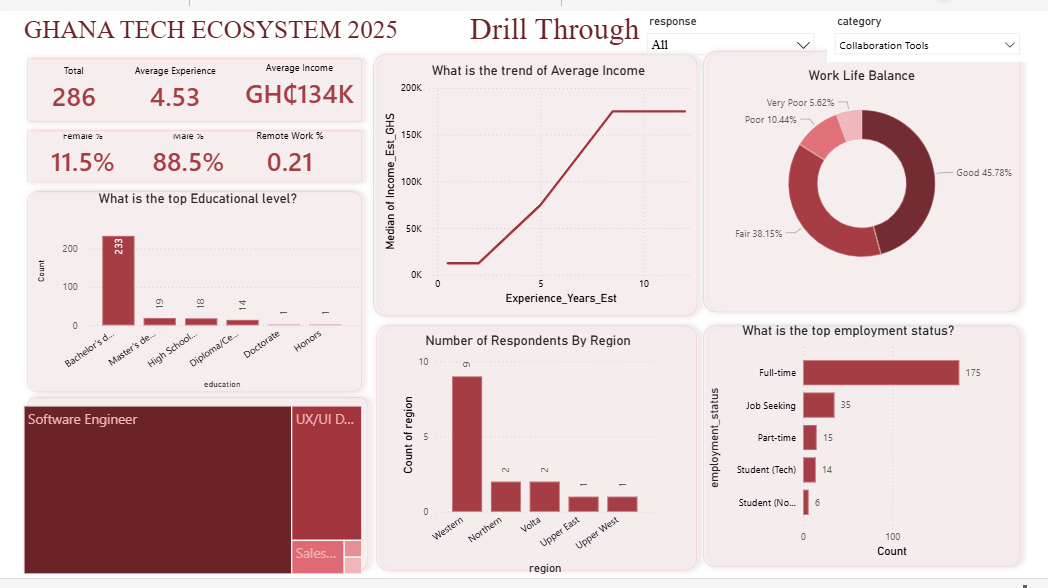

What the dashboard file says about the page in this screenshot:
{"tool":"powerbi","page":{"name":"Drill Through 1","canvas":[1280,720],"ordinal":11},"visuals":[{"type":"shape","box":[241.1,50.5,344.7,347.5],"z":0,"group":"g1"},{"type":"shape","box":[581.3,46,346.1,349],"z":500,"group":"g1"},{"type":"shape","box":[923.1,46,356.1,344.7],"z":1000,"group":"g1"},{"type":"group","id":"g1","title":"Group 1","box":[241.1,46,1038.9,670.9],"z":1500},{"type":"pivotTable","fields":{"Rows":["dim_table.primary_role"],"Columns":["fact_table.response"],"Values":["Min(fact_table.response)"]},"box":[248.8,404.7,1021.1,314.6],"z":2000},{"type":"slicer","fields":{"Values":["fact_table.category"]},"box":[0,2.9,226,716.5],"z":3000},{"type":"barChart","fields":{"Category":["dim_table.work_life_balance"],"Y":["CountNonNull(dim_table.work_life_balance)"]},"box":[586.4,50.1,353.3,334.7],"z":4000},{"type":"barChart","title":"What is the top employment status?","fields":{"Category":["dim_table.employment_status"],"Y":["CountNonNull(dim_table.employment_status)"]},"box":[248.8,65.8,331.8,320.4],"z":5000},{"type":"shape","box":[241.7,386.6,1038.3,330.4],"z":5000,"group":"g1"},{"type":"barChart","title":"What is the top Educational level?","fields":{"Category":["dim_table.education"],"Y":["CountNonNull(dim_table.education)"]},"box":[926.7,50.1,353.3,324.6],"z":6000}]}

Visuals, with their boxes in screenshot pixels (x1, y1, x2, y2), scaled from the page's 1280x720 canvas onto the 1048x588 screenshot:
shape: (197,41,480,325)
shape: (476,38,759,323)
shape: (756,38,1047,319)
"Group 1" group: (197,38,1047,585)
pivotTable - dim_table.primary_role x fact_table.response: (204,331,1040,587)
slicer - fact_table.category: (0,2,185,587)
barChart - dim_table.work_life_balance x CountNonNull(dim_table.work_life_balance): (480,41,769,314)
"What is the top employment status?" barChart: (204,54,475,315)
shape: (198,316,1047,586)
"What is the top Educational level?" barChart: (759,41,1047,306)
